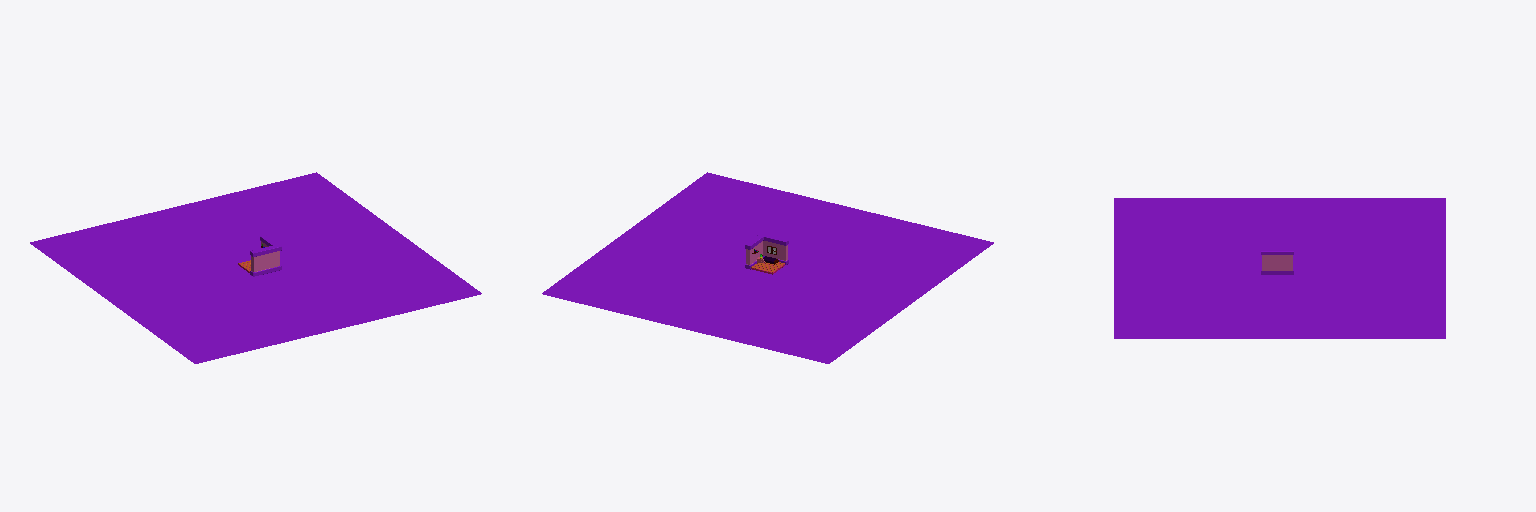
File: cuarto.obj
The picture shows the model from 3 angles: view 1: azimuth 30°, elevation 25°; view 2: azimuth 150°, elevation 25°; view 3: azimuth 270°, elevation 25°; orthographic projection.
Parts seen in each view (by area): view 1: Plane.007, Cube; view 2: Plane.007, Cube; view 3: Plane.007, Cube.
Boxes of the visible parts, <box> form: Plane.007: <box>30,172,481,363</box>; Cube: <box>250,235,281,276</box>; Plane.007: <box>542,172,993,363</box>; Cube: <box>745,233,788,269</box>; Plane.007: <box>1114,198,1445,338</box>; Cube: <box>1261,238,1293,274</box>.
Size of the model in its own units: 25.53 by 2.1 by 25.53.